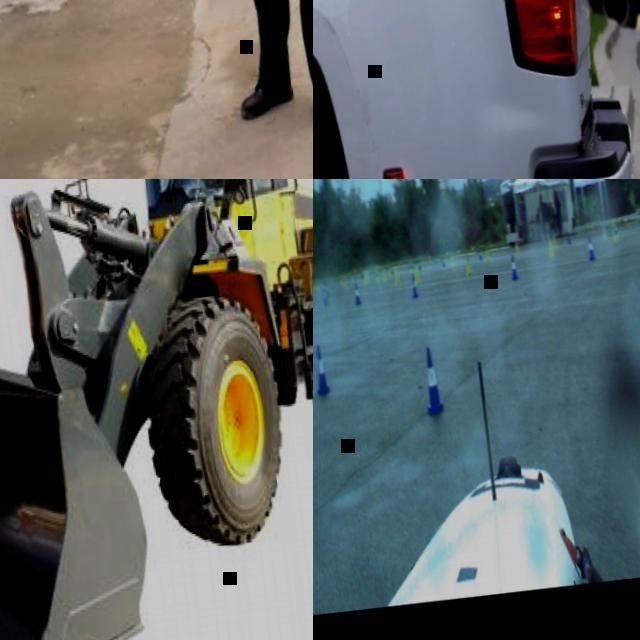Person: (153, 0, 313, 148)
Safety Cone: (419, 345, 446, 415), (313, 343, 332, 396), (508, 252, 519, 279), (586, 234, 595, 259), (410, 273, 419, 297), (353, 281, 362, 304), (612, 219, 620, 242), (321, 286, 330, 306), (393, 265, 401, 285), (465, 253, 472, 274), (548, 238, 555, 256), (363, 266, 370, 283), (414, 265, 420, 283), (374, 267, 381, 282), (382, 266, 388, 282), (607, 222, 613, 237), (565, 230, 571, 245), (602, 224, 608, 238), (340, 272, 346, 286), (515, 240, 520, 255), (553, 234, 558, 248), (410, 260, 415, 274), (623, 214, 629, 225), (450, 253, 455, 266), (360, 265, 365, 278), (485, 248, 490, 260), (478, 247, 483, 259), (441, 254, 446, 266), (417, 257, 421, 269), (456, 245, 461, 254), (489, 241, 493, 250), (428, 252, 432, 261), (471, 244, 475, 252)
machinery: (0, 179, 313, 640)
vehicle: (313, 0, 640, 179)
